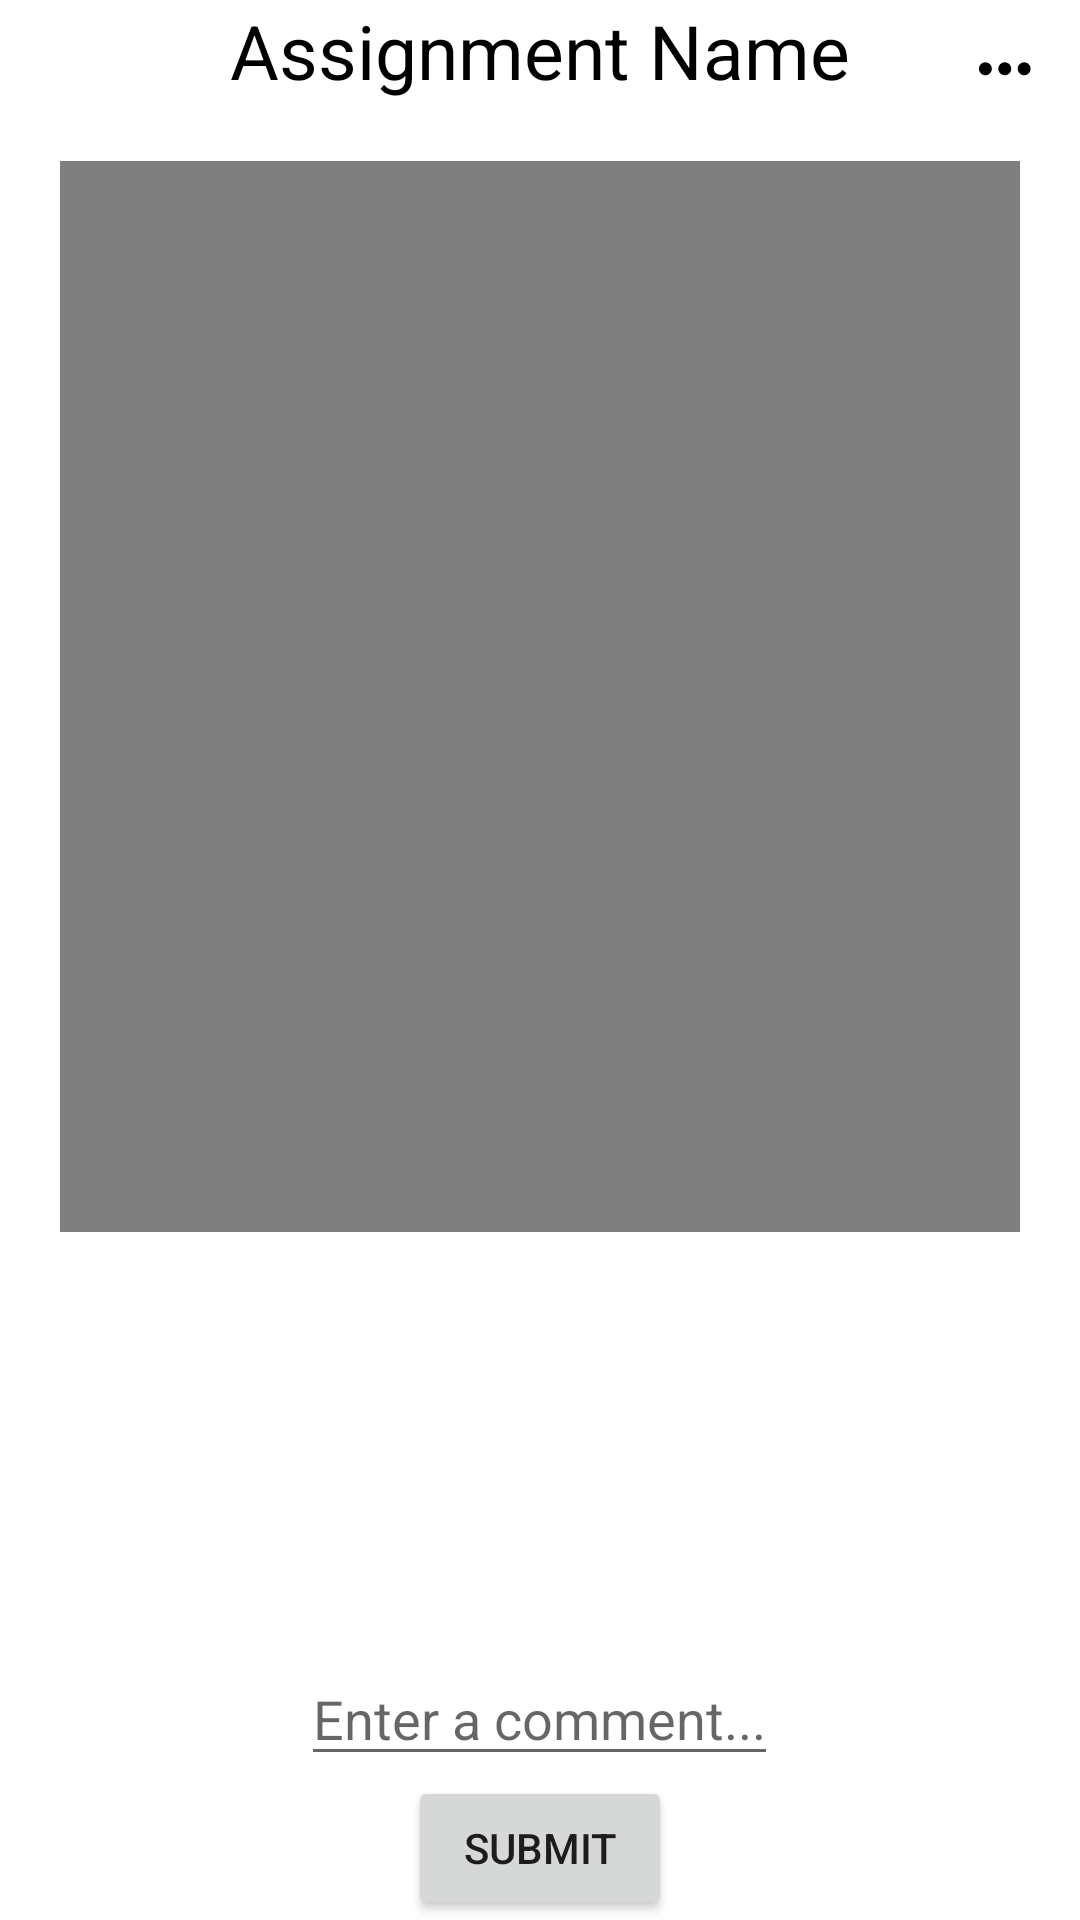

Icons on this 1080*1920 Android screen, each with the point to tap as (x=x, y=y):
more horiz: (x=1005, y=69)
